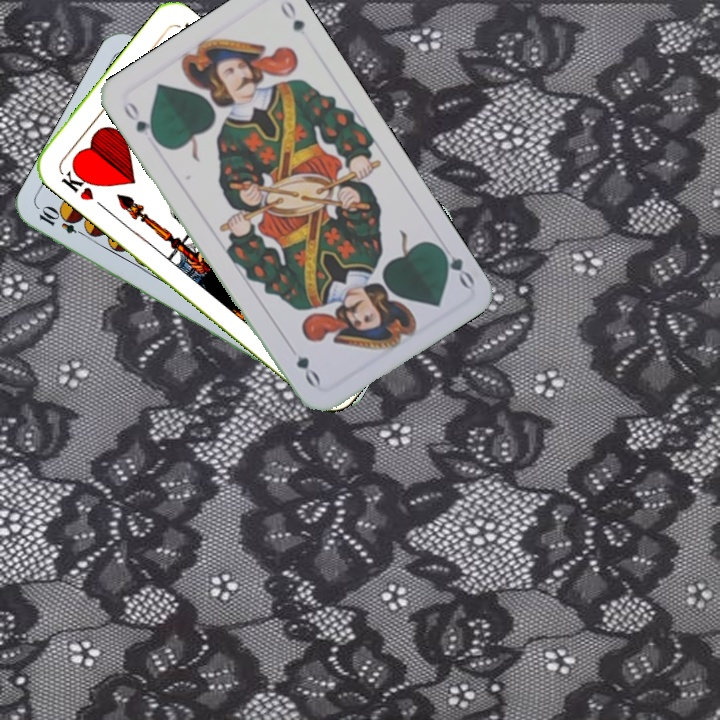E10: (35, 203, 91, 240)
GO: (432, 240, 477, 291), (119, 97, 162, 146)
HK: (55, 162, 98, 204)
